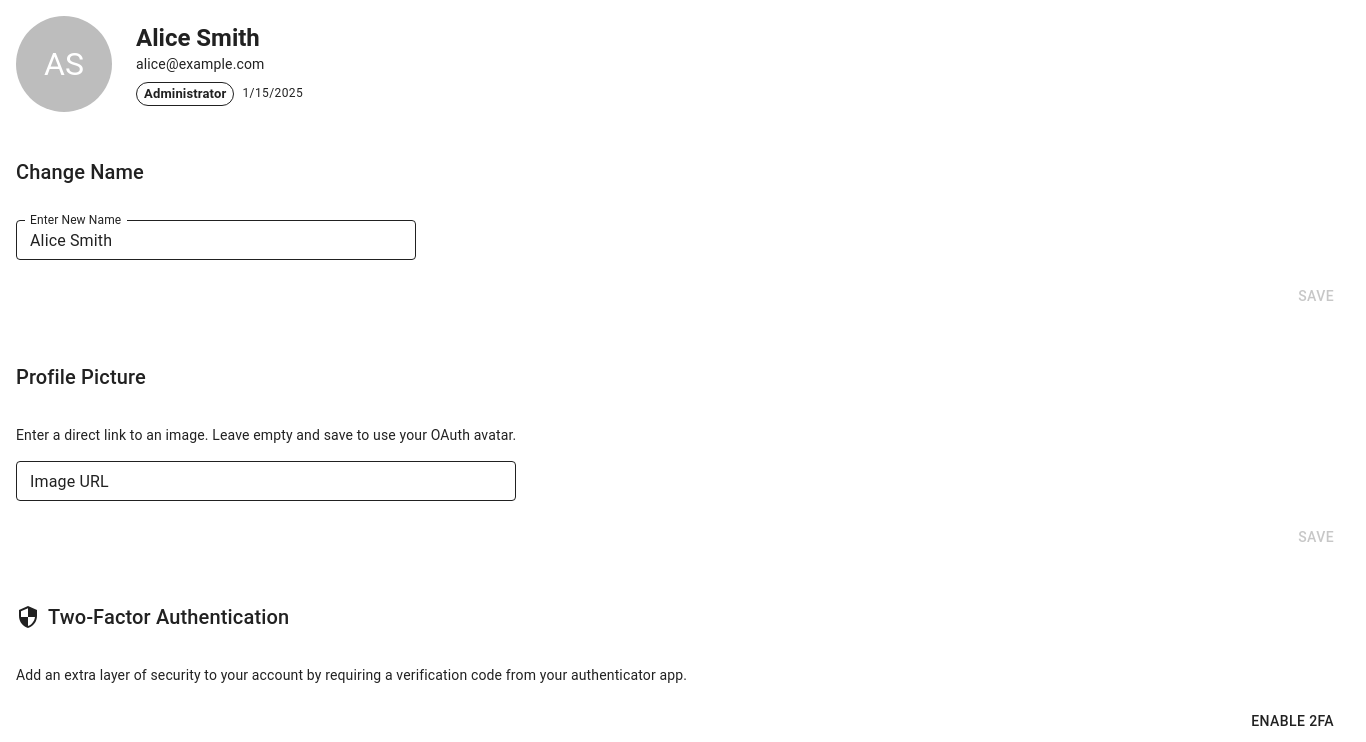
ProfileEditor › shows error when name update fails
Replace the text in the field labelled "Enter New Name" with "A": (216, 240) [16, 220, 416, 260]
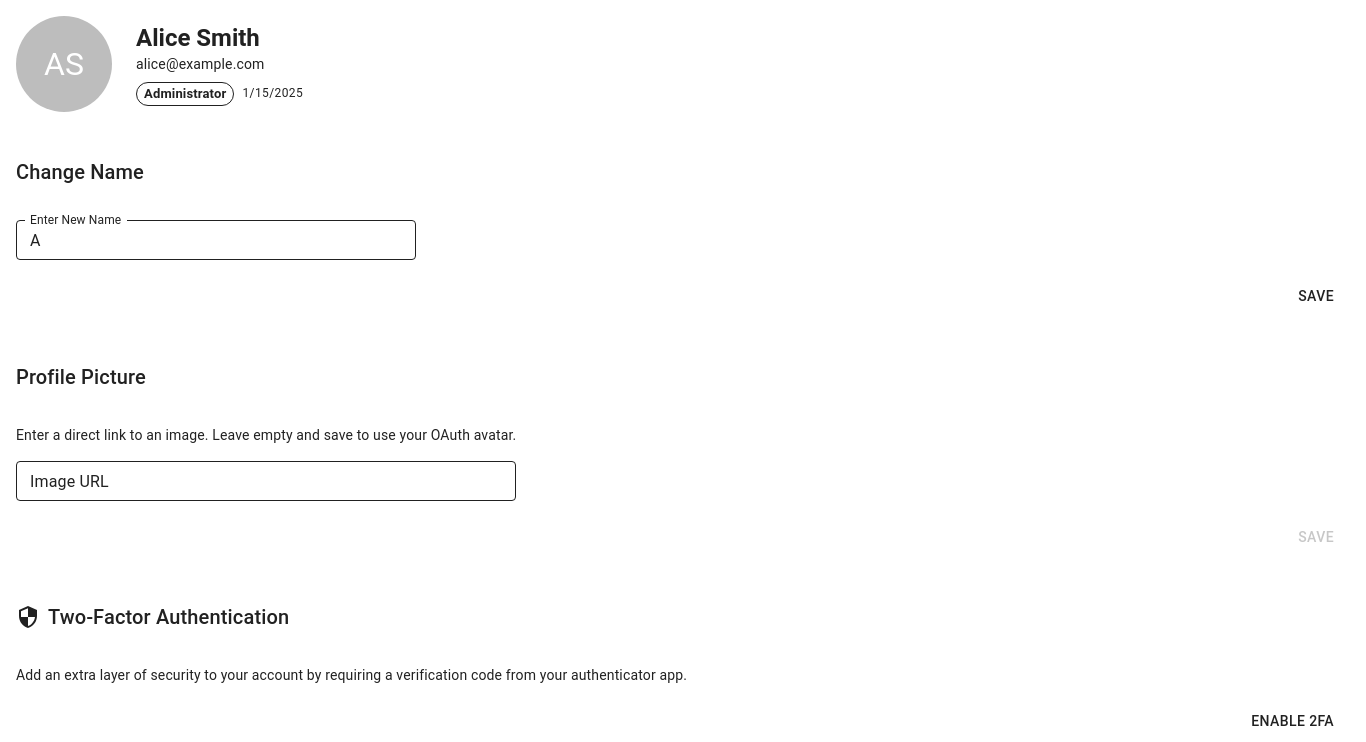
Click the 1st button "Save": (1316, 296) [1282, 276, 1350, 316]
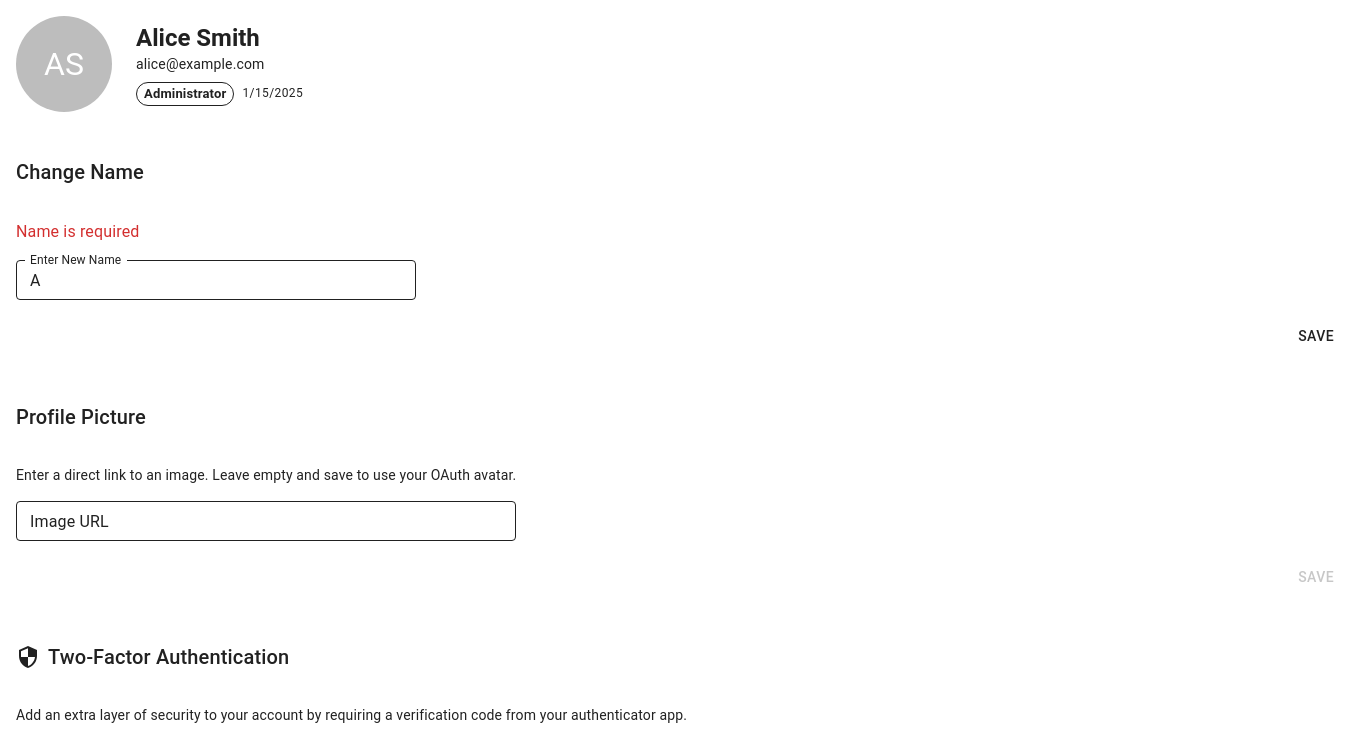
Now the text "Name is required" is shown, box [16, 222, 140, 241]
